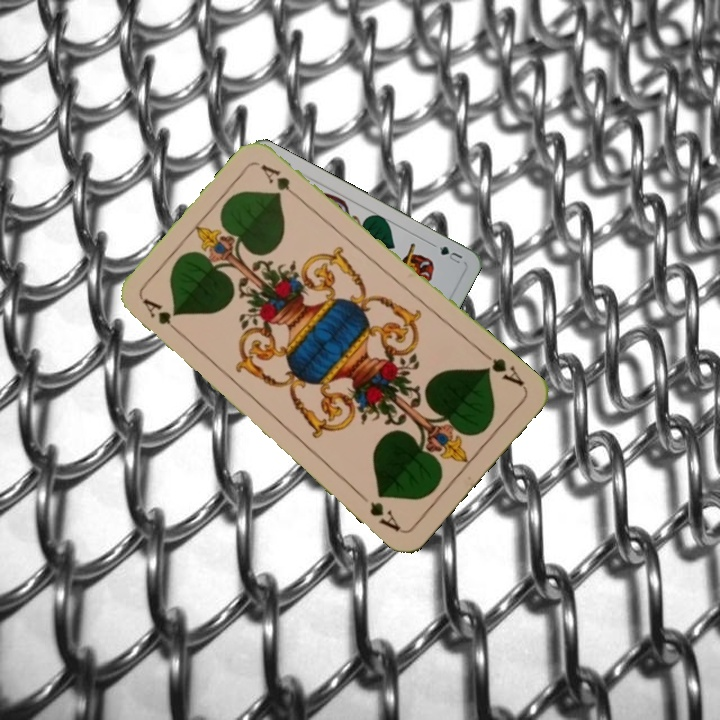GA: (139, 294, 187, 340), (477, 348, 527, 389)
GU: (429, 240, 465, 266)
